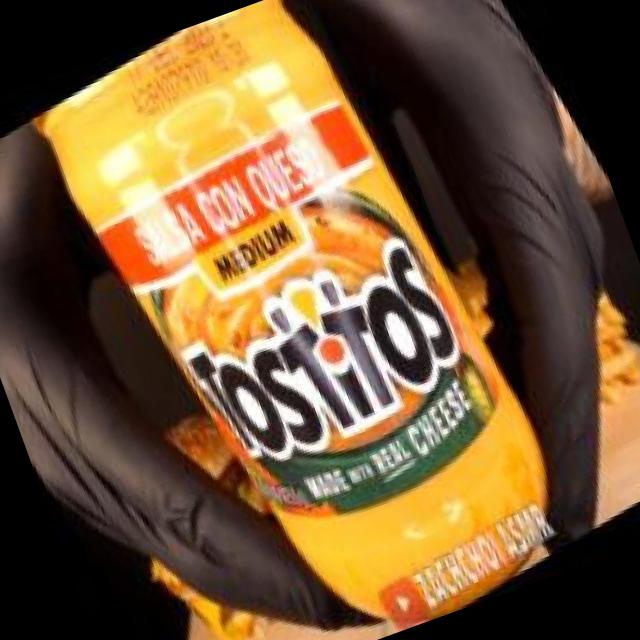tostitos cheese dip sauce: (12, 0, 610, 640)
